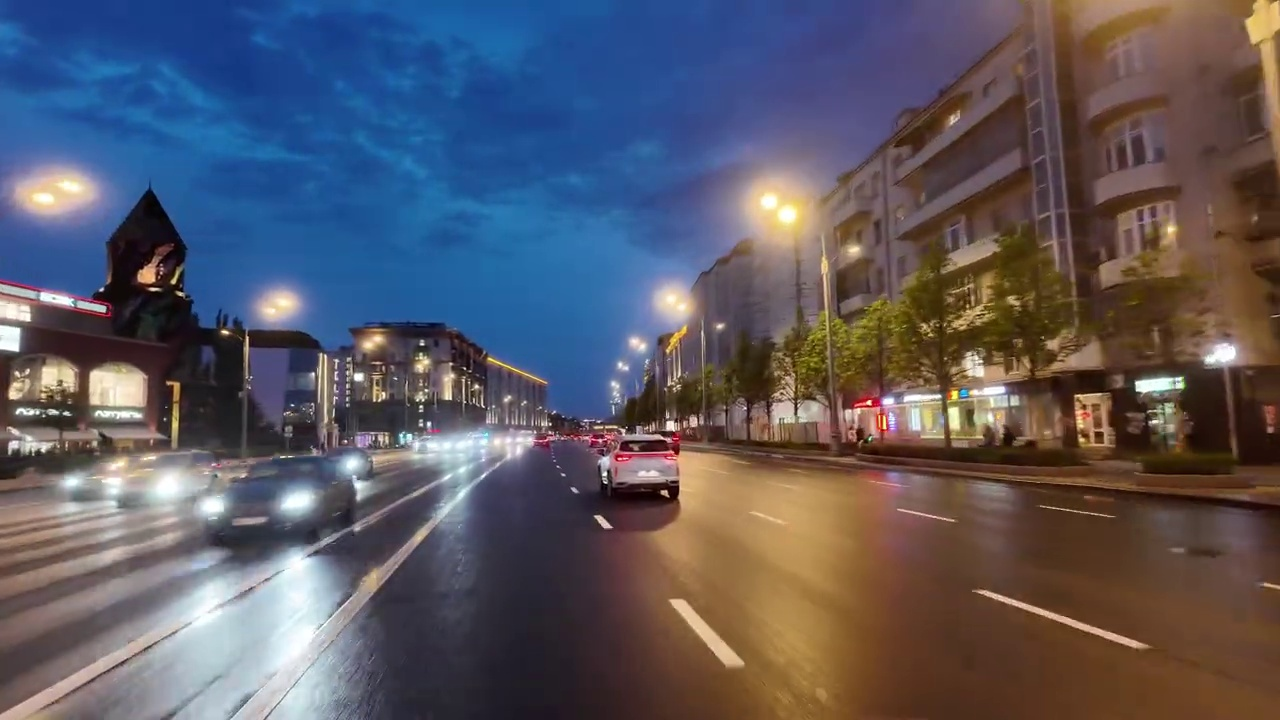acesa: (753, 185, 807, 235), (28, 174, 89, 211), (259, 290, 297, 319), (659, 287, 691, 315), (358, 330, 388, 355)
